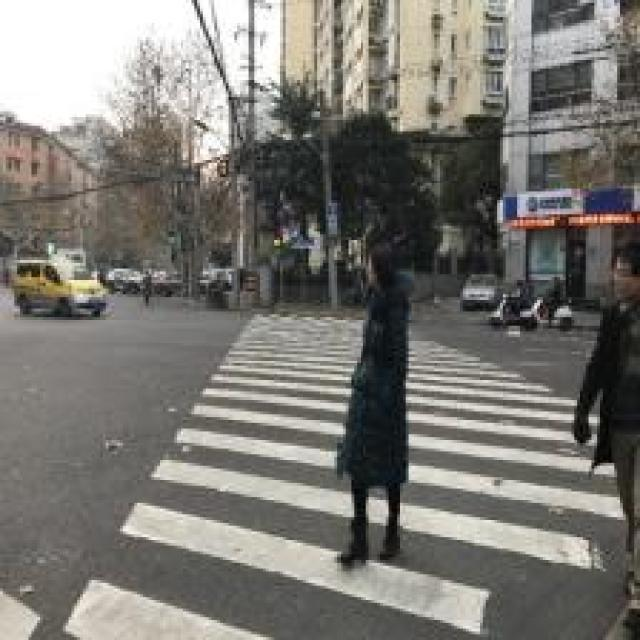obstacle: (64, 303, 594, 640)
